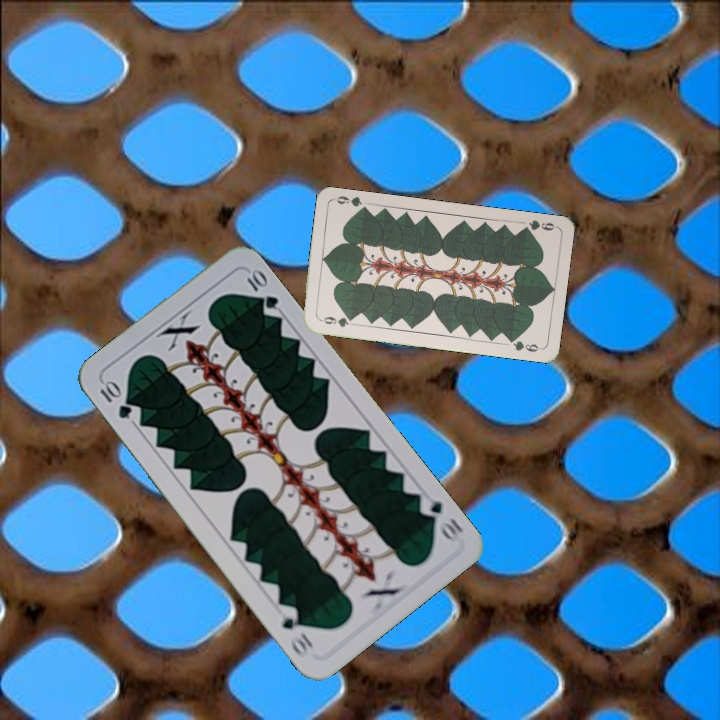G10: (414, 491, 466, 546), (95, 376, 135, 422)
G9: (517, 216, 559, 235), (316, 312, 356, 330)
